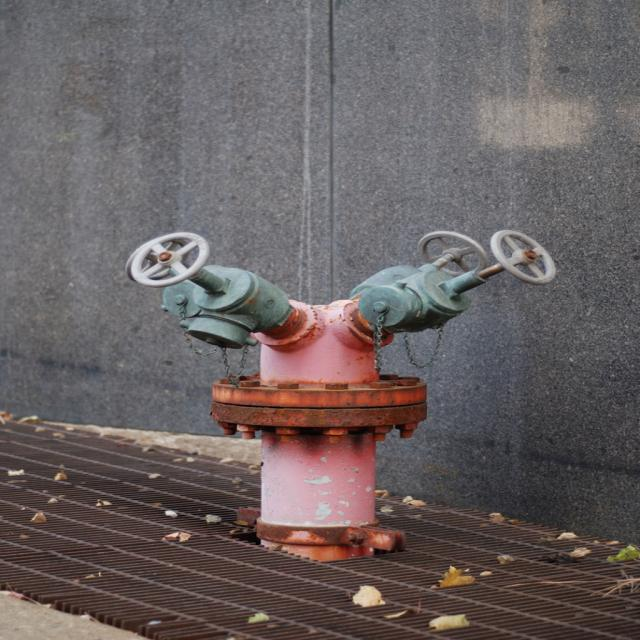fire_hydrant: (122, 227, 556, 554)
